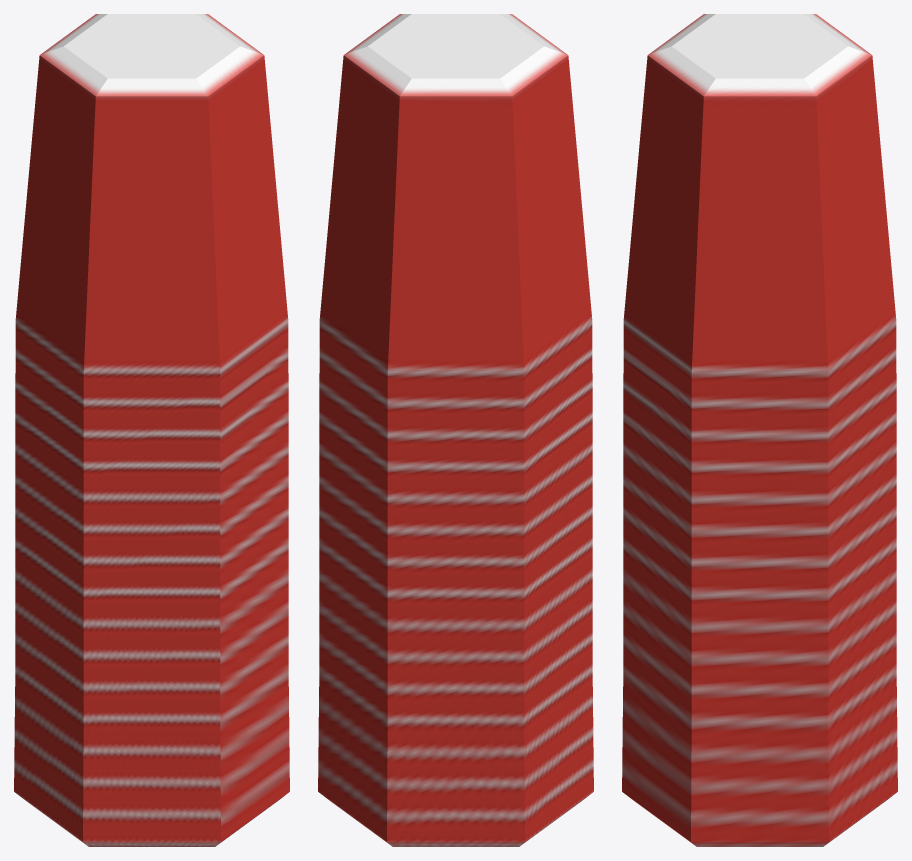
File: CupRed.fbx
3 views of the same model, side by side, from view 1: azimuth 30°, elevation 25°; view 2: azimuth 150°, elevation 25°; view 3: azimuth 270°, elevation 25° (orthographic).
Visible parts, largest first — view 1: Stack of Cups.001; view 2: Stack of Cups.001; view 3: Stack of Cups.001.
Part boxes in pixels (x1,y1,x2,y2): Stack of Cups.001: (14,14,289,846); Stack of Cups.001: (318,14,593,846); Stack of Cups.001: (622,14,897,846).
Bounding box in the file's own units: 0.2666 × 0.9284 × 0.3078.
1 material, 1 textured.
